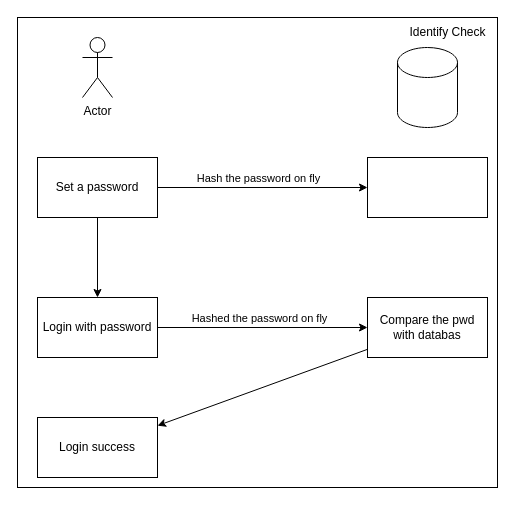
Some shapes in this 515 by 505 pixel diagram are drawn without their labels. The shapes that lost their labels are listed below. From the top down, each one's centre as x and y in pixels, then its label:
[427,87]: Database
[427,187]: Store the hashed password
